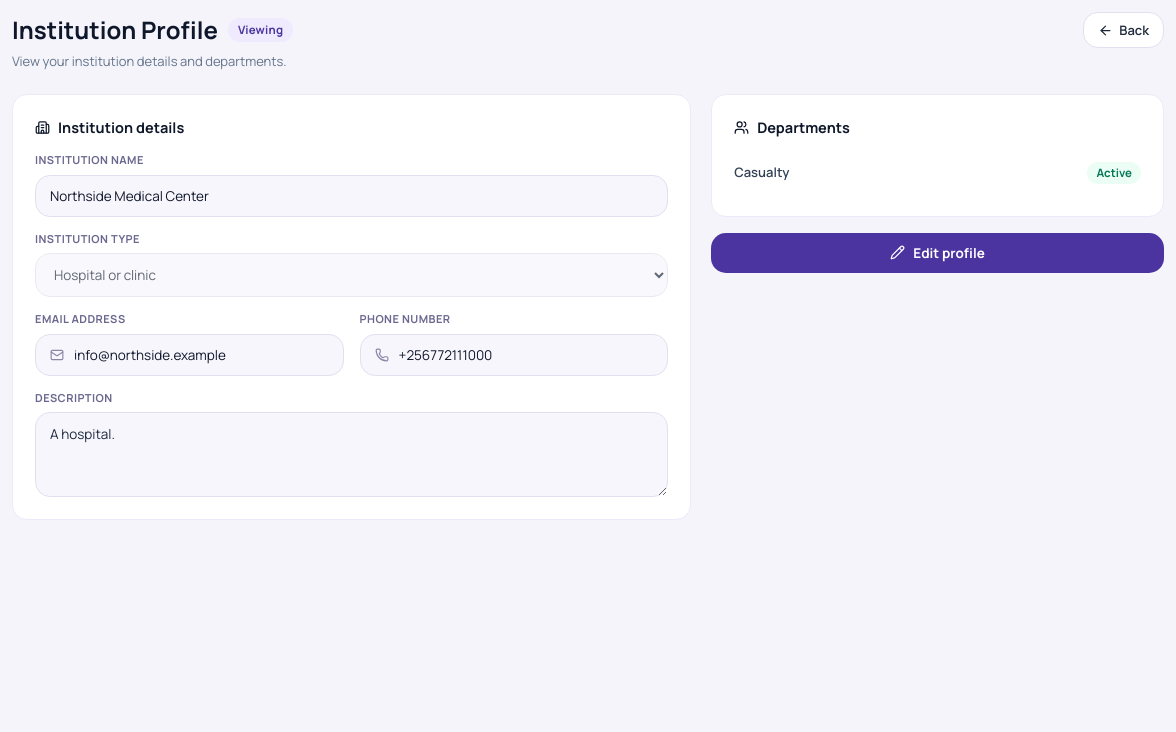
it: InstitutionProfilePage › saves the changes and goes back to viewing
Step 1. Click the button "Edit profile" → (938, 252), box [711, 232, 1164, 272]
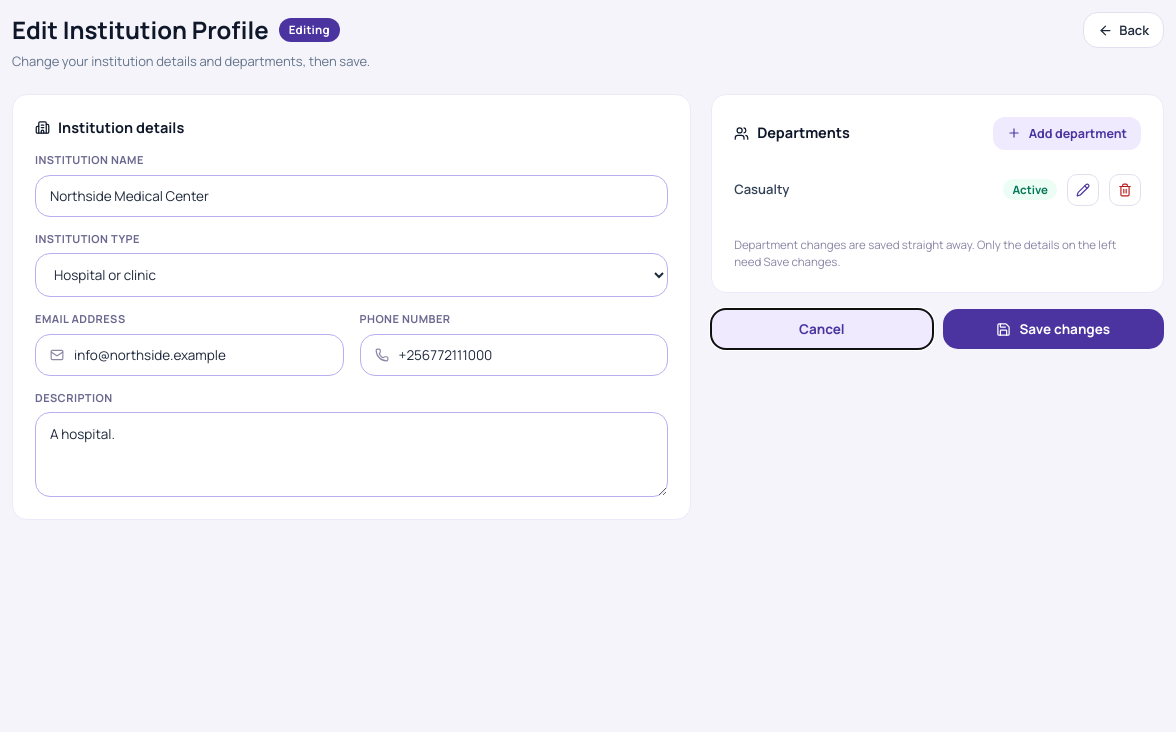
Step 2. Replace the text in the field labelled "Institution name" with "Northside Hospital" → (352, 196), box [35, 175, 668, 217]
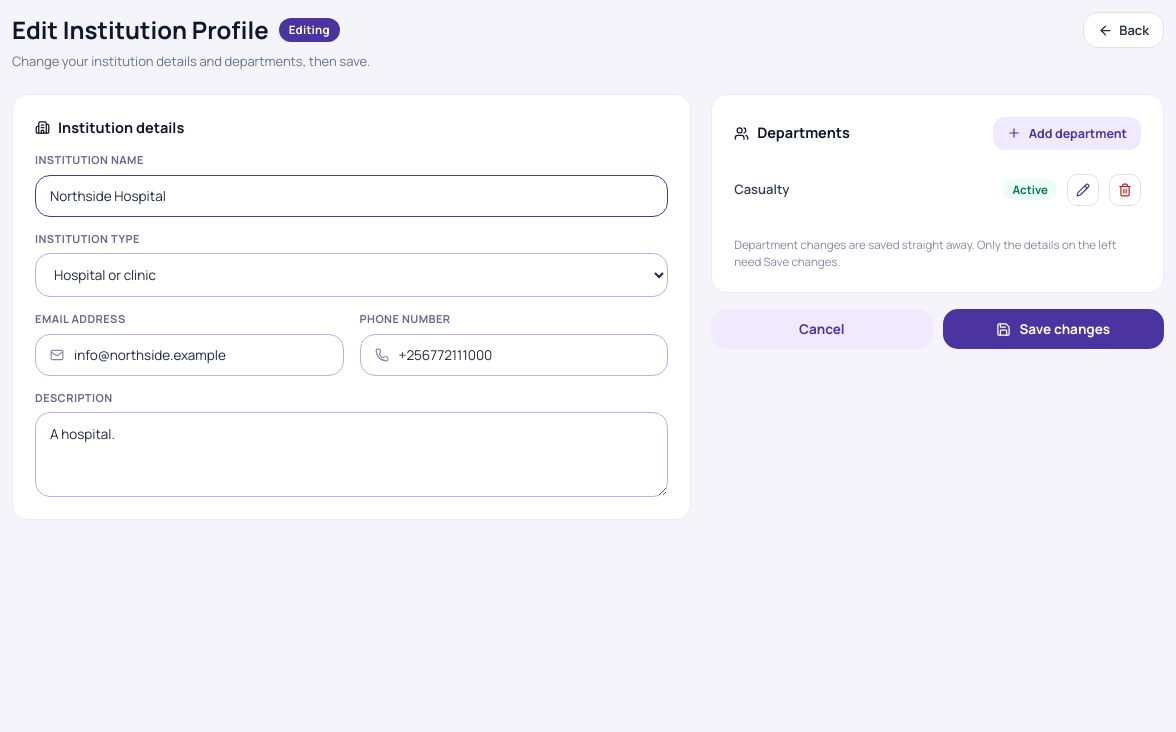
Step 3. Click the button "Save changes" → (1053, 329), box [943, 309, 1164, 349]
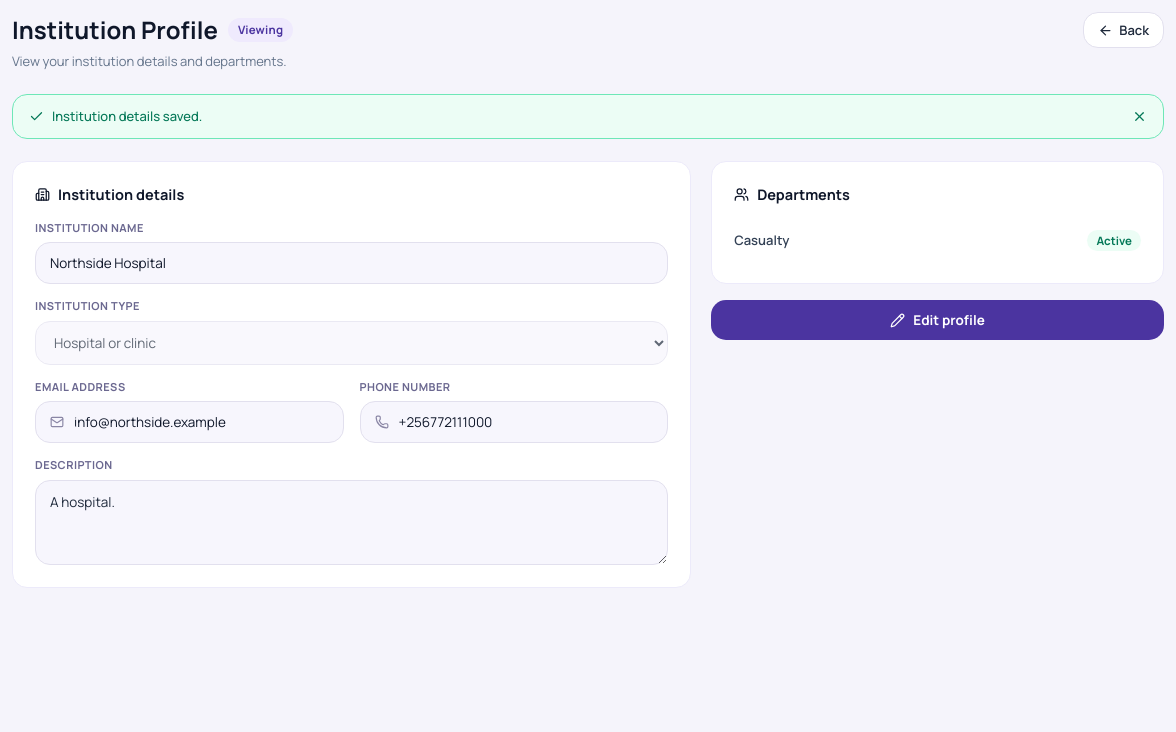
Result: the message reads "Institution details saved." at [52, 106, 202, 124]
Result: the text "Viewing" is shown at [228, 18, 293, 42]
Result: the field labelled "Institution name" is disabled at [35, 242, 668, 284]
